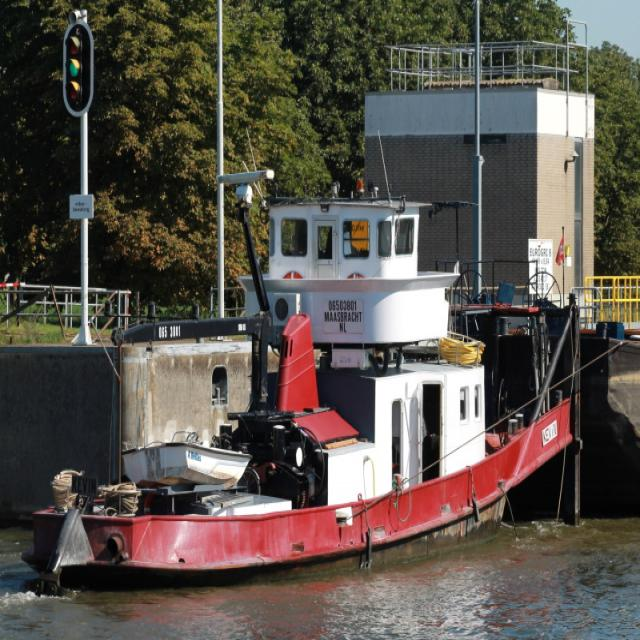tugboat: (17, 167, 580, 603)
